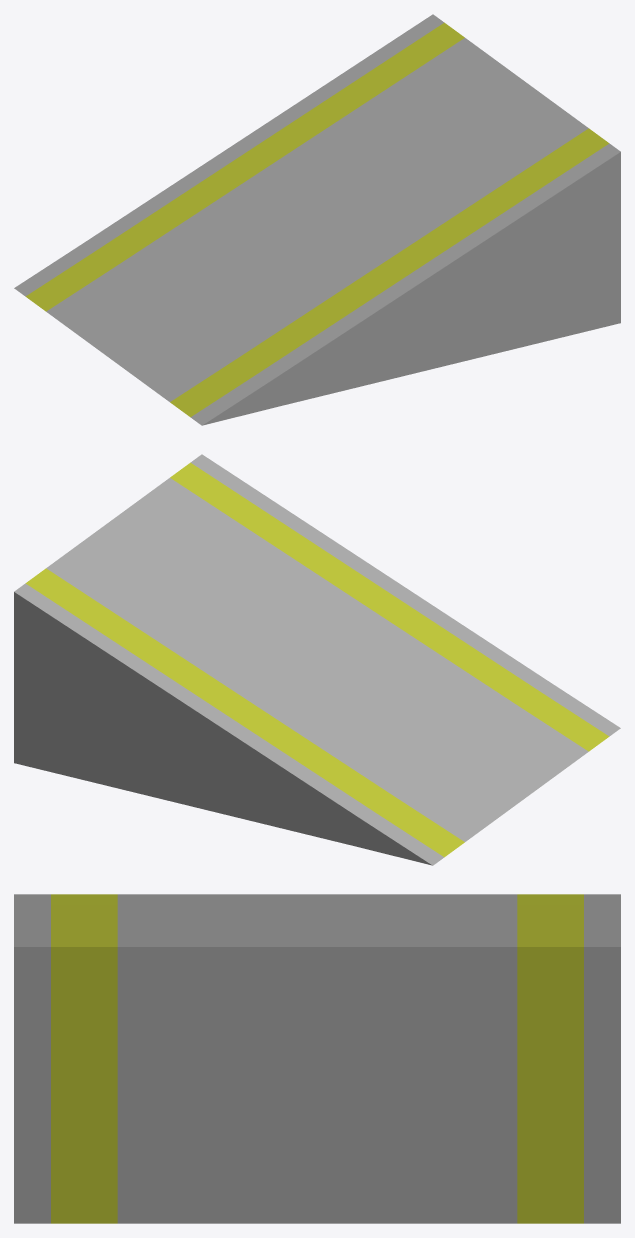
The model's file is rampe02.fbx.
3 views of the same model, one above another, from view 1: azimuth 30°, elevation 25°; view 2: azimuth 150°, elevation 25°; view 3: azimuth 270°, elevation 25° (orthographic). The views are drawn at different scales.
Visible parts, largest first — view 1: rampe02; view 2: rampe02; view 3: rampe02.
Part boxes in pixels (x1,y1,x2,y2): rampe02: (14,14,620,425); rampe02: (14,454,620,865); rampe02: (14,894,620,1223).
Bounding box in the file's own units: 2.05 × 0.8019 × 1.59.
